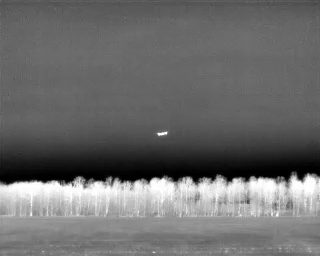DRONE: (153, 126, 172, 141)
